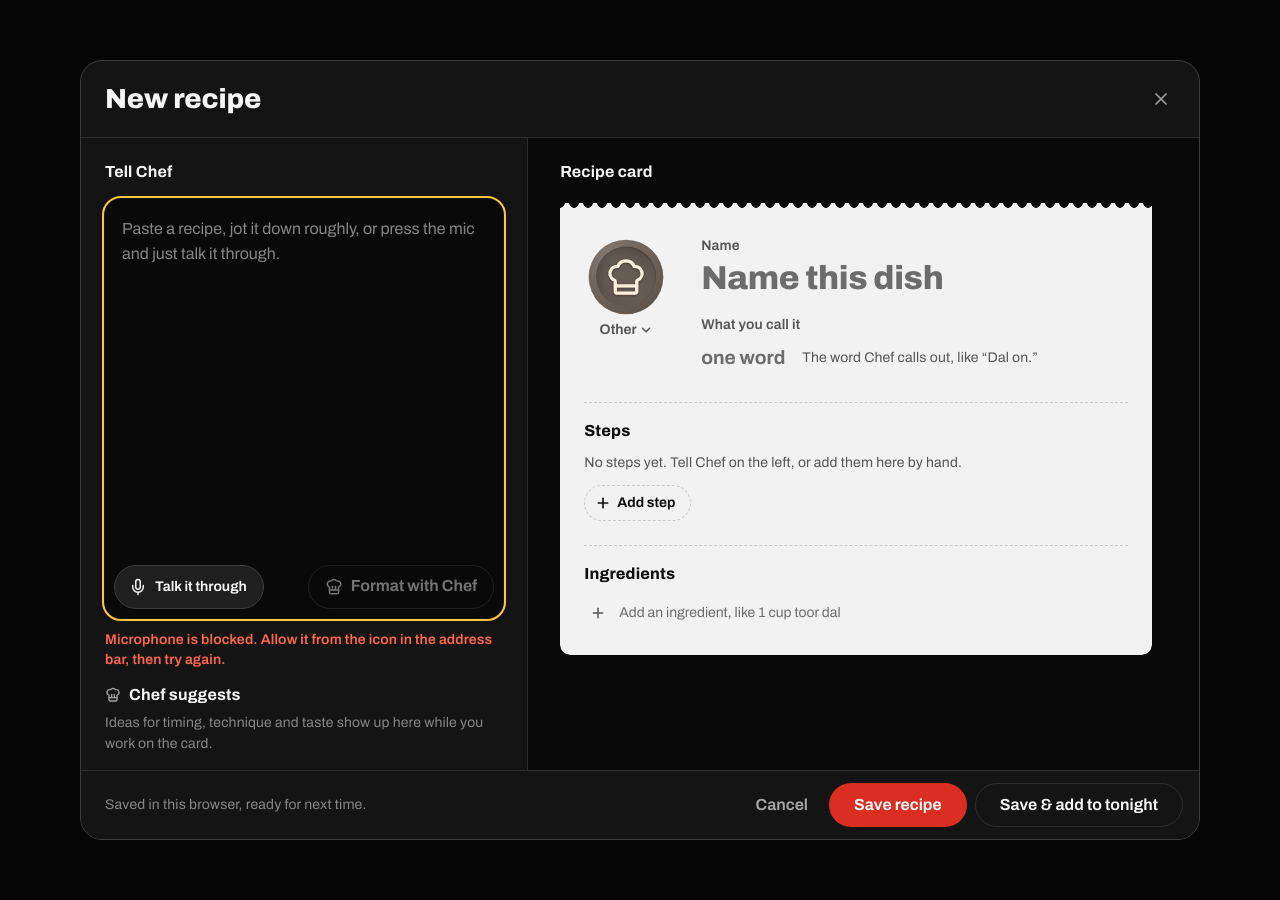
Test: RecipeStudio › shows a mic problem in the status line until Chef has something newer to say
Expected: the message with test id "studio-status" shows "Microphone is blocked.", [105,632,492,667]
Type "dal" into the text box with test id "studio-text" at (304,378), box [106,200,502,557]
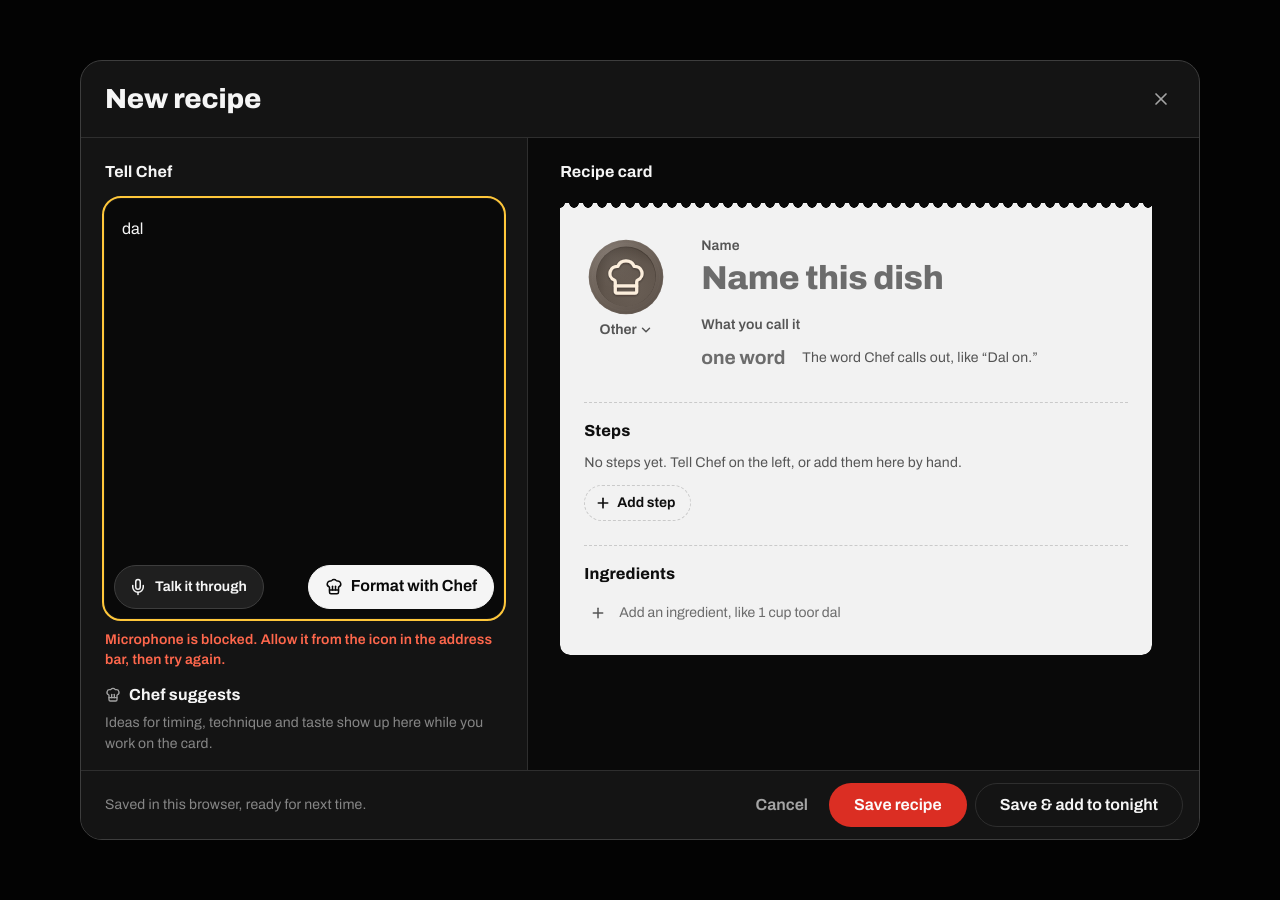
Click the button with test id "studio-format" at (401,587), box [308,565,494,609]
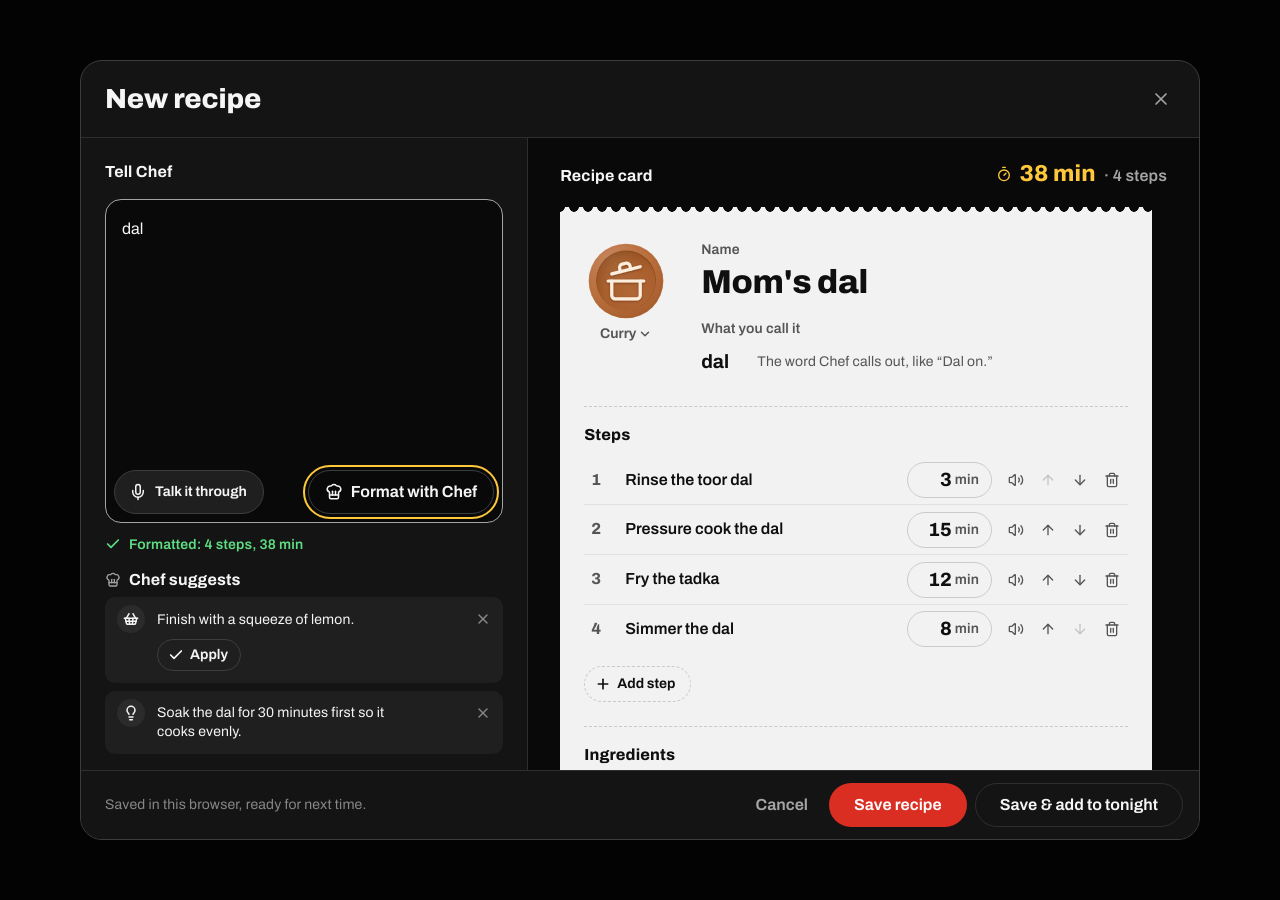
Now the message with test id "studio-status" reads "Formatted: 4 steps, 38 min", box [129,537,303,552]
